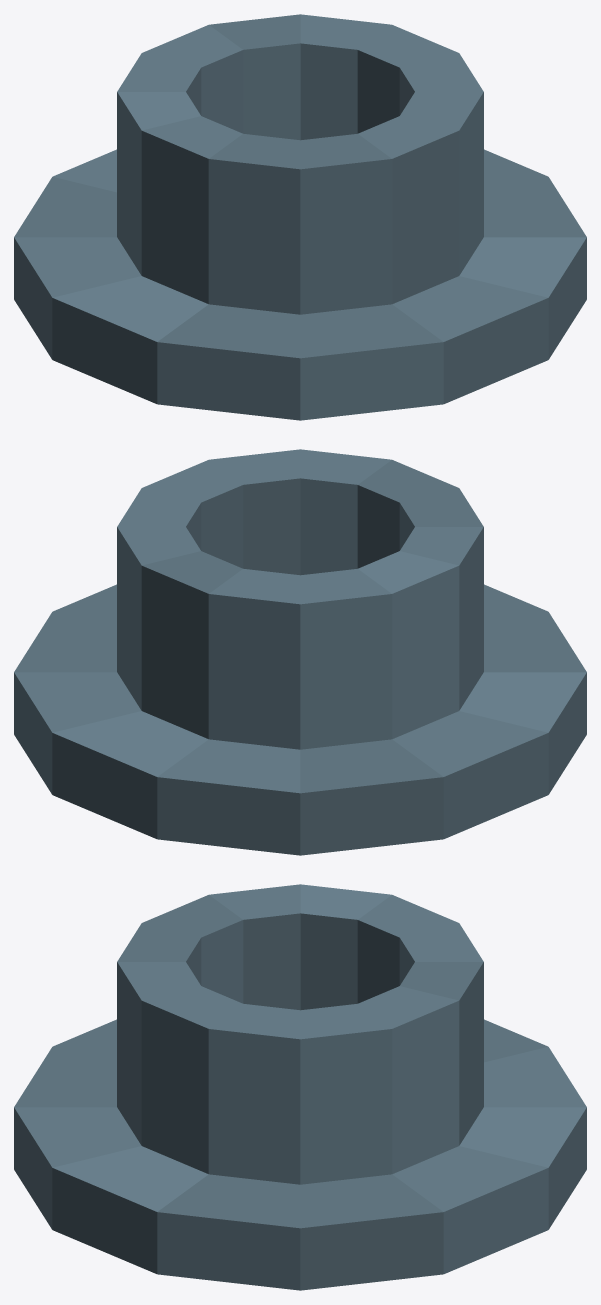
Rendered from P41_Pipe_Flange.fbx.
3 renders of one model, top to bottom at view 1: azimuth 30°, elevation 25°; view 2: azimuth 150°, elevation 25°; view 3: azimuth 270°, elevation 25°, orthographic.
Parts seen in each view (by area): view 1: P41_Pipe_Flange; view 2: P41_Pipe_Flange; view 3: P41_Pipe_Flange.
Boxes of the visible parts, <box> form: P41_Pipe_Flange: <box>14,14,586,420</box>; P41_Pipe_Flange: <box>14,449,586,855</box>; P41_Pipe_Flange: <box>14,884,586,1290</box>.
Size of the model in its own units: 1 by 0.4 by 1.
1 material, 1 textured.
